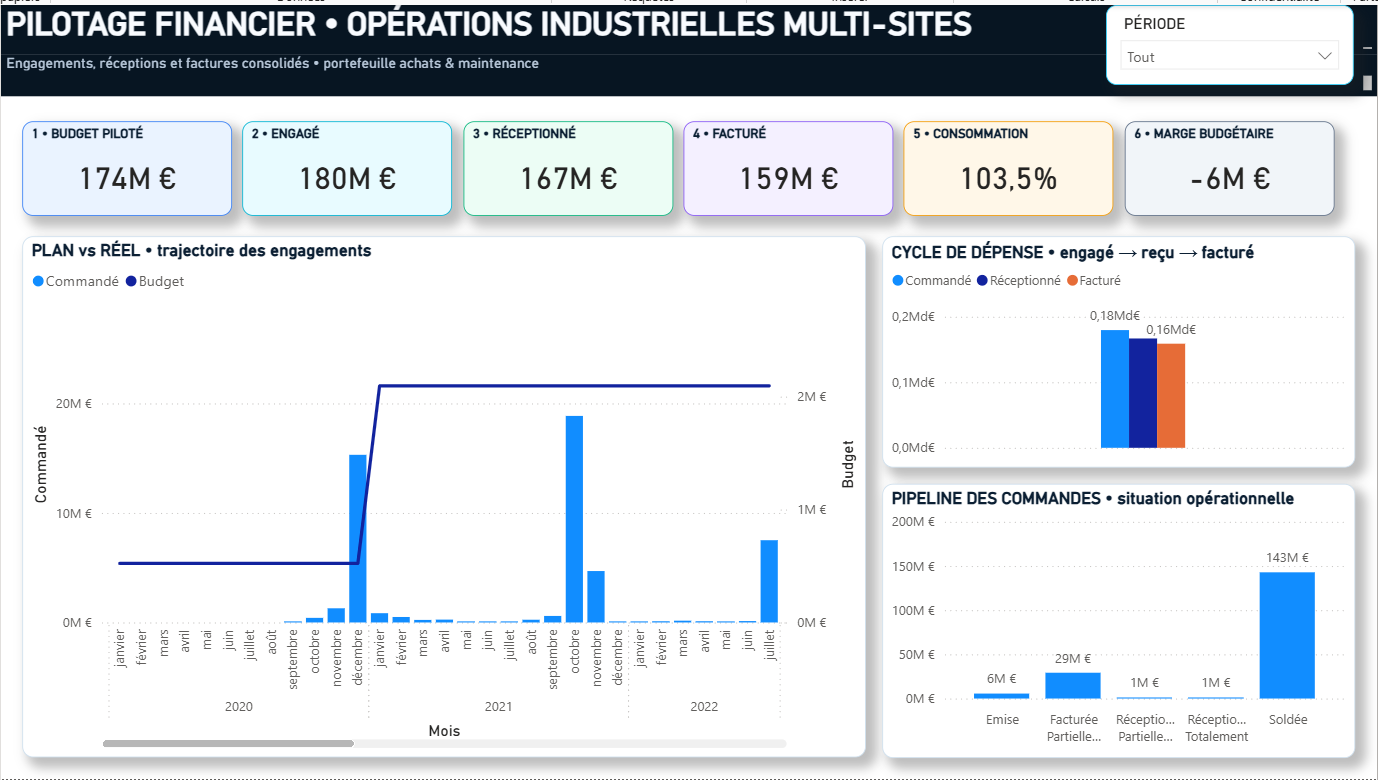

This screenshot's page, from the dashboard's own definition file:
{"tool":"powerbi","page":{"name":"01 • Vue 360°","canvas":[1280,720],"ordinal":0},"visuals":[{"type":"textbox","title":"PILOTAGE FINANCIER • OPÉRATIONS INDUSTRIELLES MULTI-SITES","box":[0,0,1280,46],"z":1},{"type":"textbox","title":"Engagements, réceptions et factures consolidés • portefeuille achats & maintenance","box":[0,46,1280,38],"z":2},{"type":"slicer","fields":{"Values":["DATE.Date.Variation.Hiérarchie de dates.Année","DATE.Date.Variation.Hiérarchie de dates.Mois"]},"box":[1025,13,230,58],"z":6},{"type":"card","title":"1 • BUDGET PILOTÉ","fields":{"Values":["Commandes P2/FU.PF_Budget"]},"box":[20,108,195,88],"z":10},{"type":"card","title":"2 • ENGAGÉ","fields":{"Values":["Commandes P2/FU.PF_Commandé"]},"box":[225,108,195,88],"z":11},{"type":"card","title":"3 • RÉCEPTIONNÉ","fields":{"Values":["Commandes P2/FU.PF_Réceptionné"]},"box":[430,108,195,88],"z":12},{"type":"card","title":"4 • FACTURÉ","fields":{"Values":["Commandes P2/FU.PF_Facturé"]},"box":[635,108,195,88],"z":13},{"type":"card","title":"5 • CONSOMMATION","fields":{"Values":["Commandes P2/FU.PF_TauxConsommation"]},"box":[840,108,195,88],"z":14},{"type":"card","title":"6 • MARGE BUDGÉTAIRE","fields":{"Values":["Commandes P2/FU.PF_ResteBudgétaire"]},"box":[1045,108,195,88],"z":15},{"type":"lineStackedColumnComboChart","title":"PLAN vs RÉEL • trajectoire des engagements","fields":{"Category":["DATE.Date.Variation.Hiérarchie de dates.Année","DATE.Date.Variation.Hiérarchie de dates.Mois"],"Y":["Commandes P2/FU.PF_Commandé"],"Y2":["Commandes P2/FU.PF_Budget"]},"box":[20,215,785,485],"z":20},{"type":"clusteredColumnChart","title":"CYCLE DE DÉPENSE • engagé → reçu → facturé","fields":{"Y":["Commandes P2/FU.PF_Commandé","Commandes P2/FU.PF_Réceptionné","Commandes P2/FU.PF_Facturé"]},"box":[820,215,440,215],"z":21},{"type":"columnChart","title":"PIPELINE DES COMMANDES • situation opérationnelle","fields":{"Category":["Commandes P2/FU.Etat"],"Y":["Commandes P2/FU.PF_Commandé"]},"box":[820,445,440,255],"z":22}]}

Visuals, with their boxes in screenshot pixels (x1, y1, x2, y2), scaled from the page's 1280x720 canvas onto the 1378x780 screenshot:
"PILOTAGE FINANCIER • OPÉRATIONS INDUSTRIELLES MULTI-SITES" textbox: l=0, t=0, r=1377, b=50
"Engagements, réceptions et factures consolidés • portefeuille achats & maintenance" textbox: l=0, t=50, r=1377, b=91
slicer - DATE.Date.Variation.Hiérarchie de dates.Année x DATE.Date.Variation.Hiérarchie de dates.Mois: l=1103, t=14, r=1351, b=77
"1 • BUDGET PILOTÉ" card: l=22, t=117, r=231, b=212
"2 • ENGAGÉ" card: l=242, t=117, r=452, b=212
"3 • RÉCEPTIONNÉ" card: l=463, t=117, r=673, b=212
"4 • FACTURÉ" card: l=684, t=117, r=894, b=212
"5 • CONSOMMATION" card: l=904, t=117, r=1114, b=212
"6 • MARGE BUDGÉTAIRE" card: l=1125, t=117, r=1335, b=212
"PLAN vs RÉEL • trajectoire des engagements" lineStackedColumnComboChart: l=22, t=233, r=867, b=758
"CYCLE DE DÉPENSE • engagé → reçu → facturé" clusteredColumnChart: l=883, t=233, r=1356, b=466
"PIPELINE DES COMMANDES • situation opérationnelle" columnChart: l=883, t=482, r=1356, b=758
